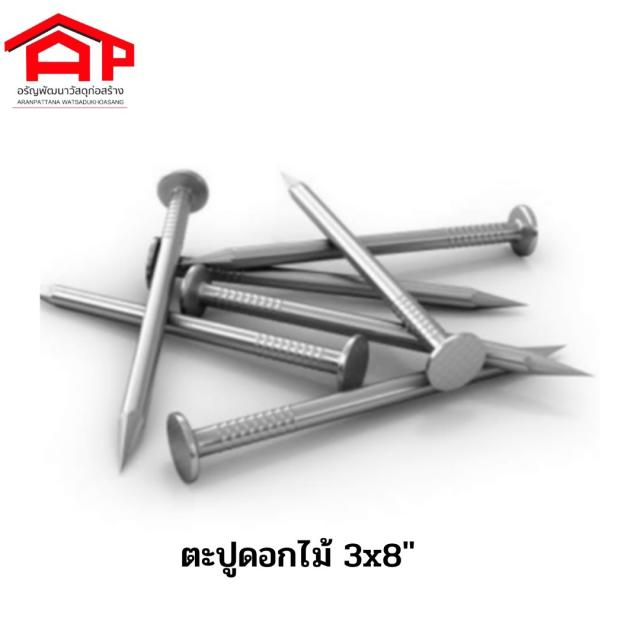3x8 nail: (266, 155, 518, 422), (114, 149, 217, 487)
